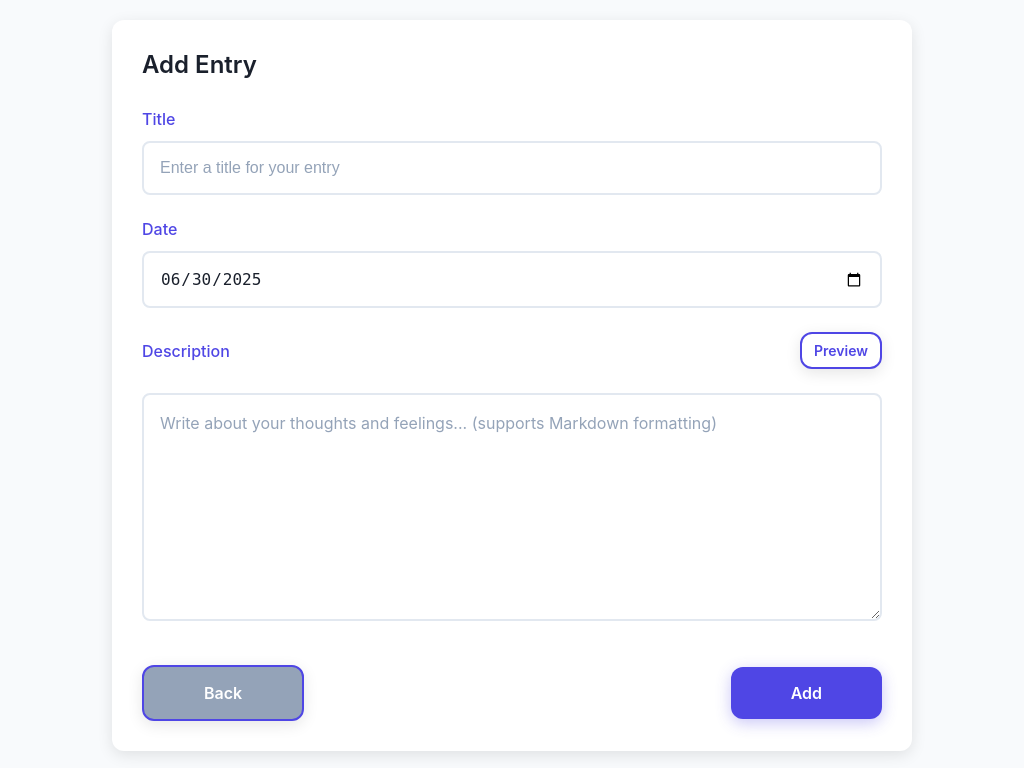
Test: EntryPage Component › Preview Mode › shows markdown preview with placeholder when content is empty
Click the button "Preview": (841, 350) [800,332,882,369]
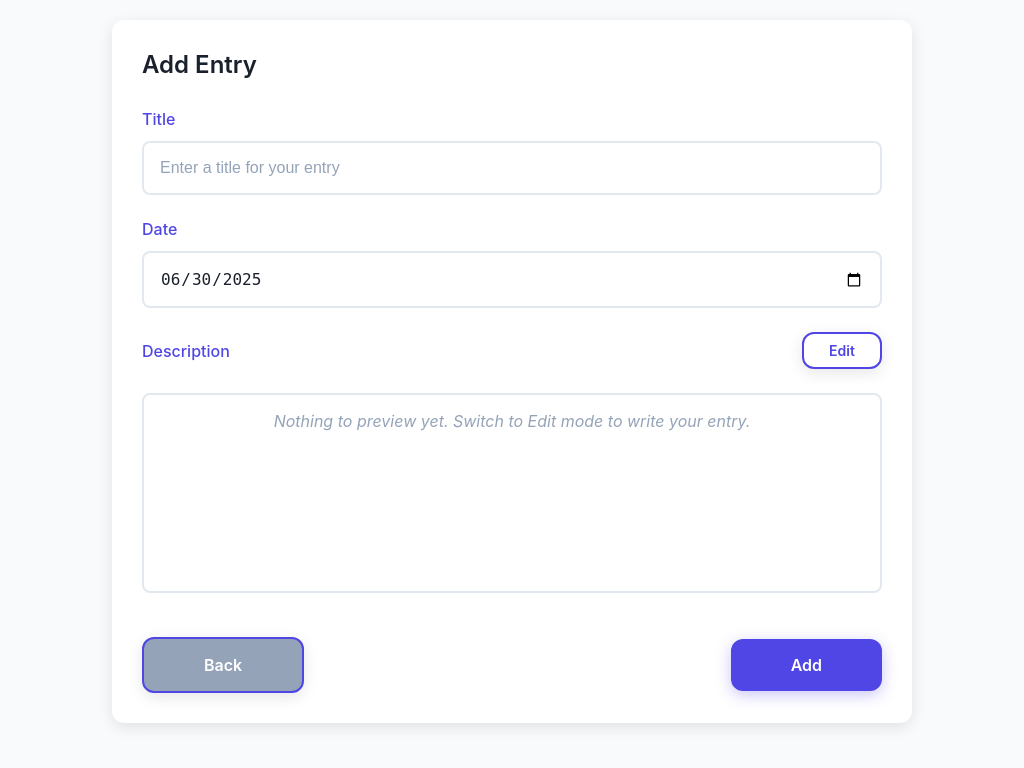
Check: the text "Nothing to preview yet. Switch to Edit mode to write your entry." is shown, box [274,411,750,431]
